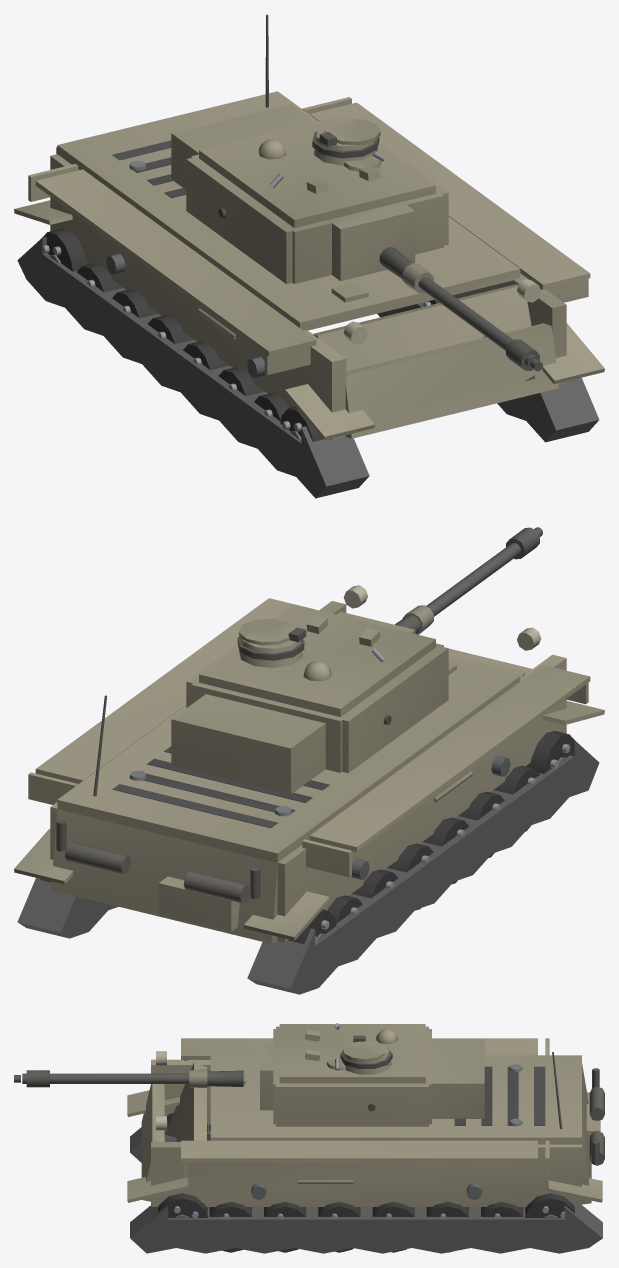
Rendered from type61.glb.
The picture shows the model from 3 angles, top to bottom: view 1: azimuth 30°, elevation 25°; view 2: azimuth 150°, elevation 25°; view 3: azimuth 270°, elevation 25°; orthographic projection. The views are drawn at different scales.
Parts seen in each view (by area): view 1: hullSide, tracks, hullTop, turretRoof, lowerPlate, glacis, turretFront, turretSide, mantlet, barrel, wheel7, wheel1 (+5 smaller); view 2: hullSide, hullTop, tracks, hullRear, turretRoof, turretFront, turretSide, barrel, turretRear, wheel6, wheel4, wheel3 (+4 smaller); view 3: hullSide, tracks, hullTop, turretRoof, turretSide, turretFront, barrel, hullRear, glacis, lowerPlate, wheel14, wheel15 (+8 smaller).
Boxes of the visible parts, x1=… form: hullSide: x1=28, y1=97, x2=590, y2=440; tracks: x1=14, y1=200, x2=604, y2=498; hullTop: x1=57, y1=91, x2=520, y2=330; turretRoof: x1=199, y1=115, x2=435, y2=227; lowerPlate: x1=345, y1=323, x2=558, y2=438; glacis: x1=313, y1=282, x2=535, y2=381; turretFront: x1=171, y1=104, x2=443, y2=283; turretSide: x1=186, y1=142, x2=448, y2=284; mantlet: x1=328, y1=202, x2=415, y2=281; barrel: x1=379, y1=247, x2=542, y2=371; wheel7: x1=42, y1=228, x2=90, y2=271; wheel1: x1=112, y1=289, x2=158, y2=318; hullSide: x1=28, y1=585, x2=590, y2=942; hullTop: x1=57, y1=658, x2=520, y2=862; tracks: x1=14, y1=701, x2=604, y2=994; hullRear: x1=51, y1=695, x2=278, y2=943; turretRoof: x1=199, y1=604, x2=435, y2=716; turretFront: x1=171, y1=643, x2=443, y2=793; turretSide: x1=186, y1=608, x2=448, y2=772; barrel: x1=394, y1=527, x2=542, y2=634; turretRear: x1=191, y1=679, x2=342, y2=772; wheel6: x1=526, y1=731, x2=574, y2=773; wheel4: x1=458, y1=791, x2=504, y2=857; wheel3: x1=423, y1=817, x2=469, y2=883; hullSide: x1=151, y1=1038, x2=581, y2=1206; tracks: x1=127, y1=1090, x2=602, y2=1253; hullTop: x1=210, y1=1055, x2=581, y2=1144; turretRoof: x1=279, y1=1023, x2=425, y2=1083; turretSide: x1=276, y1=1026, x2=428, y2=1126; turretFront: x1=273, y1=1029, x2=484, y2=1124; barrel: x1=14, y1=1069, x2=243, y2=1087; hullRear: x1=552, y1=1052, x2=604, y2=1204; glacis: x1=164, y1=1062, x2=245, y2=1141; lowerPlate: x1=141, y1=1084, x2=164, y2=1201; wheel14: x1=158, y1=1193, x2=207, y2=1218; wheel15: x1=525, y1=1193, x2=574, y2=1218.
Bounding box in the file's own units: 4.08 × 2.9 × 8.5.
